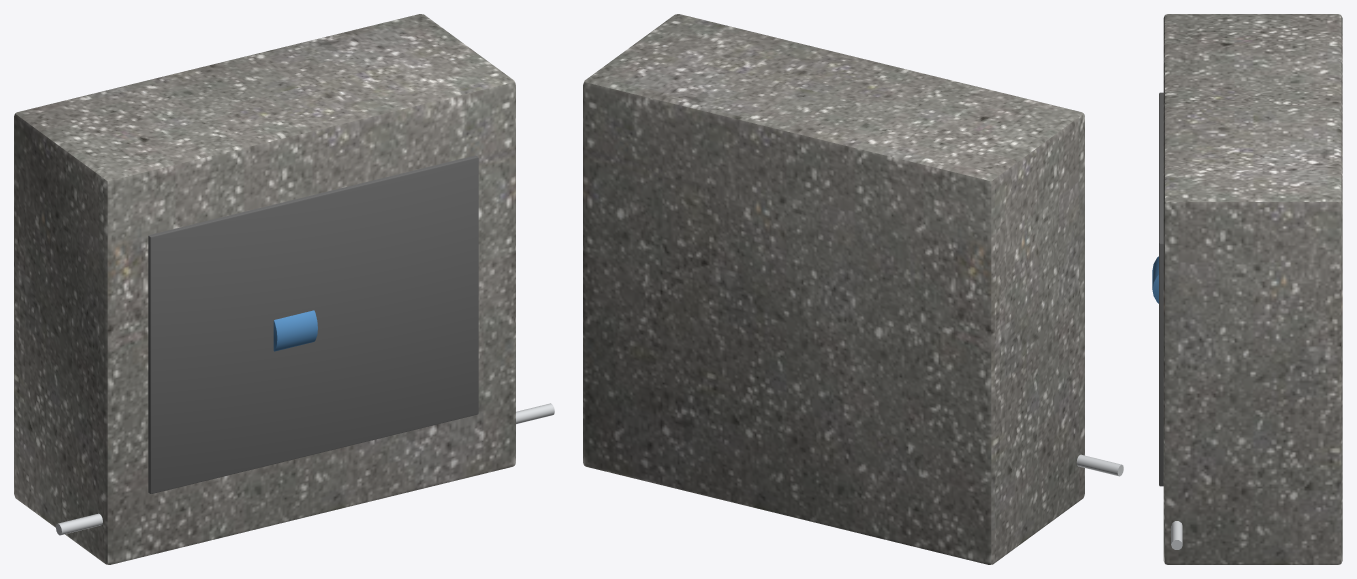
Rendered from SER-LIG-002_lod1.glb.
3 views of the same model, side by side, from view 1: azimuth 30°, elevation 25°; view 2: azimuth 150°, elevation 25°; view 3: azimuth 270°, elevation 25° (orthographic). The views are drawn at different scales.
Visible parts, largest first — view 1: SER-LIG-002_mureta, SER-LIG-002_nicho, SER-LIG-002_hidrometro; view 2: SER-LIG-002_mureta; view 3: SER-LIG-002_mureta, SER-LIG-002_nicho, SER-LIG-002_tubo4, SER-LIG-002_hidrometro.
Part boxes in pixels (x1,y1,x2,y2): SER-LIG-002_mureta: (14,14,515,564); SER-LIG-002_nicho: (148,155,478,493); SER-LIG-002_hidrometro: (273,310,317,351); SER-LIG-002_mureta: (583,14,1084,564); SER-LIG-002_mureta: (1163,14,1342,564); SER-LIG-002_nicho: (1159,92,1163,486); SER-LIG-002_tubo4: (1171,521,1182,549); SER-LIG-002_hidrometro: (1152,256,1158,303).
Size of the model in its own units: 1.2 by 0.9 by 0.425.
7 materials, 2 textured.
